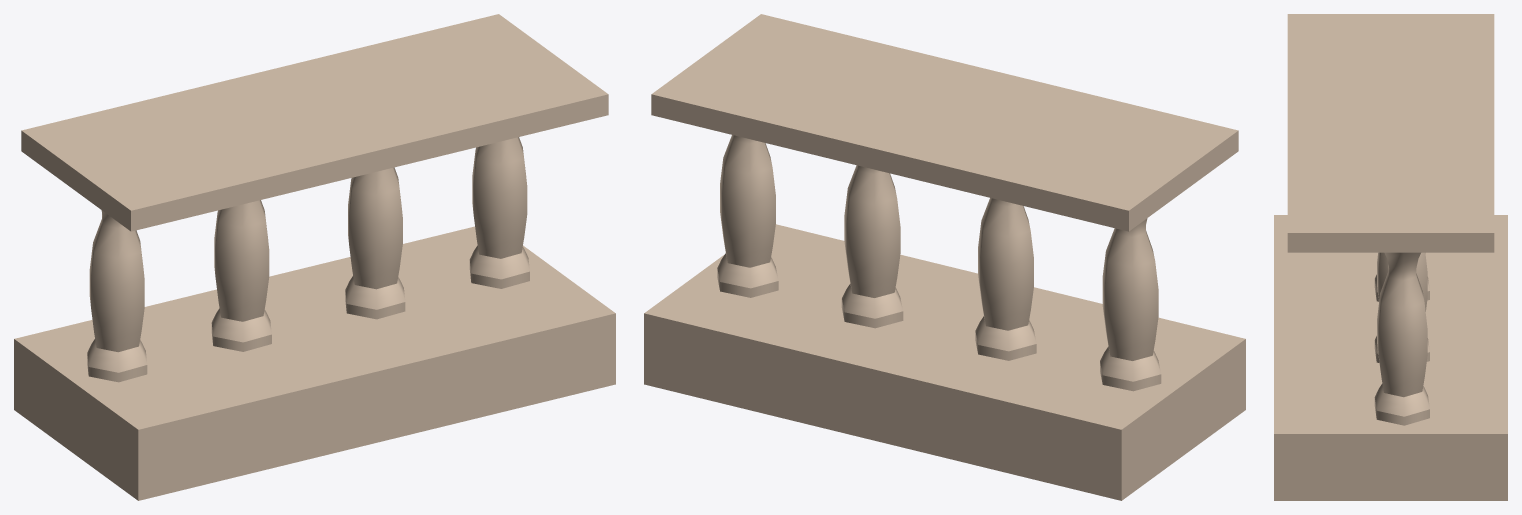
File: BC_Frame_A_02.fbx
3 views of the same model, side by side, from view 1: azimuth 30°, elevation 25°; view 2: azimuth 150°, elevation 25°; view 3: azimuth 270°, elevation 25° (orthographic). The views are drawn at different scales.
Visible parts, largest first — view 1: BC_Frame_A_02; view 2: BC_Frame_A_02; view 3: BC_Frame_A_02.
Boxes of the visible parts, box(x1,y1,x2,y2) form: BC_Frame_A_02: box(14, 14, 615, 500); BC_Frame_A_02: box(644, 14, 1245, 500); BC_Frame_A_02: box(1274, 14, 1507, 500).
Bounding box in the file's own units: 206 × 117 × 92.67.
